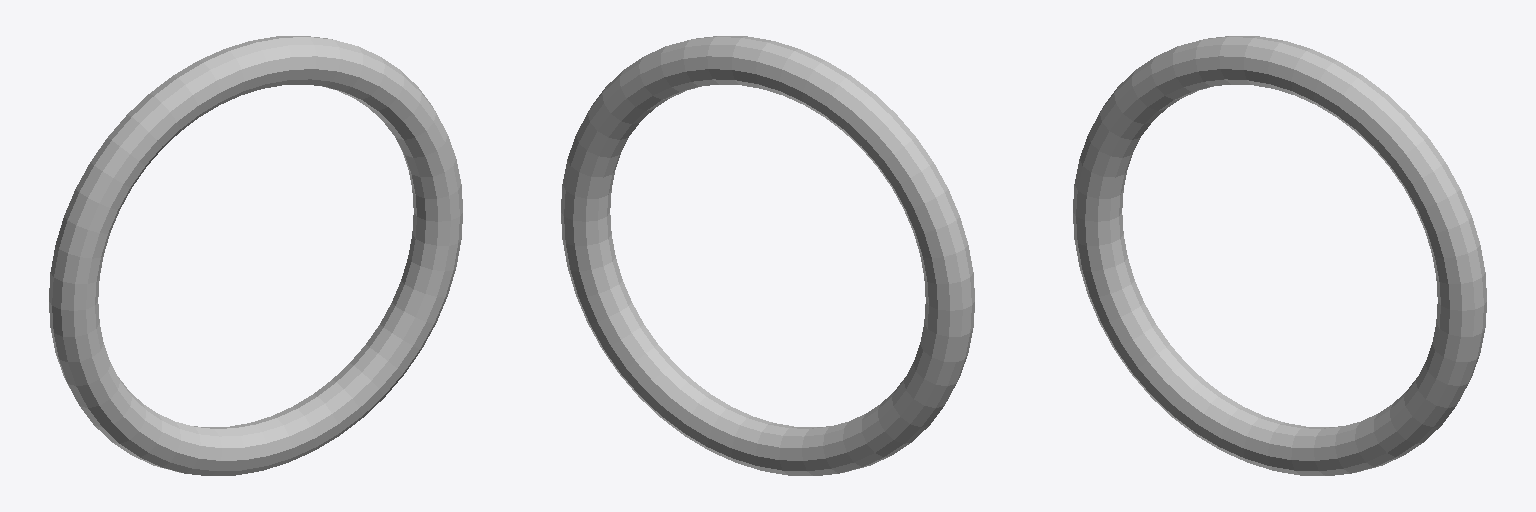
Rendered from SkyHoop.obj.
3 renders of one model, left to right at view 1: azimuth 30°, elevation 25°; view 2: azimuth 150°, elevation 25°; view 3: azimuth 330°, elevation 25°, orthographic.
Visible parts, largest first — view 1: Torus; view 2: Torus; view 3: Torus.
Boxes of the visible parts, x1=… form: Torus: x1=49, y1=36, x2=462, y2=475; Torus: x1=561, y1=36, x2=974, y2=475; Torus: x1=1073, y1=36, x2=1486, y2=475.
Bounding box in the file's own units: 19 × 19 × 2.